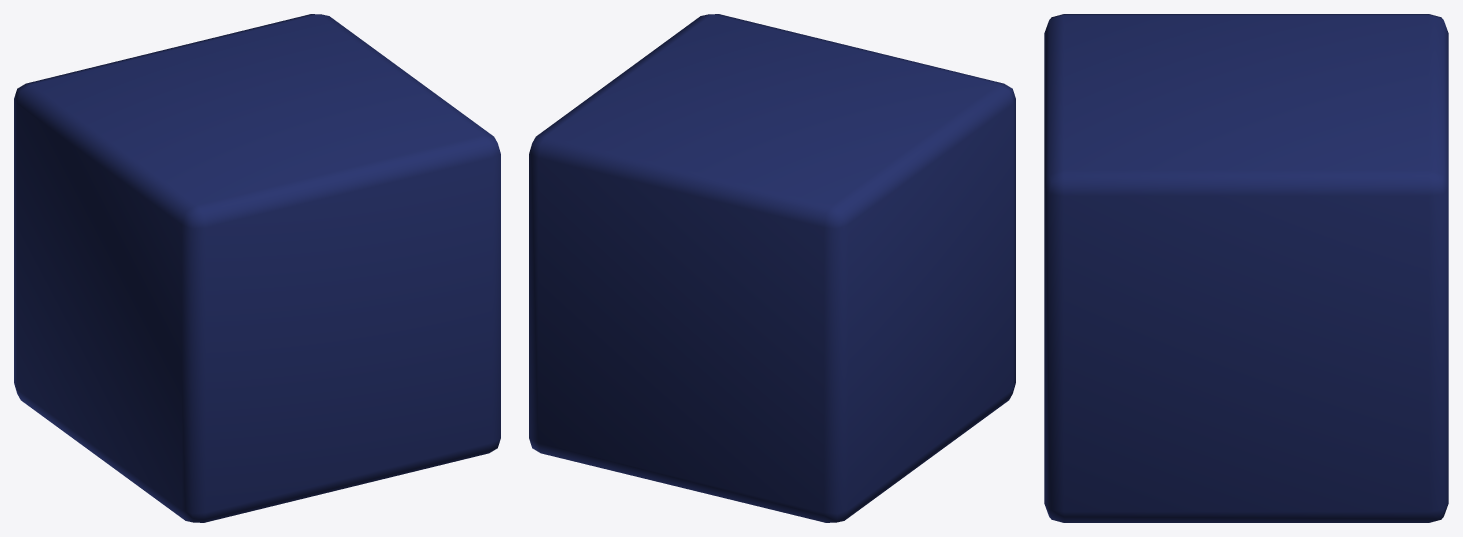
File: pillarbox.fbx
3 views of the same model, side by side, from view 1: azimuth 30°, elevation 25°; view 2: azimuth 150°, elevation 25°; view 3: azimuth 270°, elevation 25° (orthographic). The views are drawn at different scales.
Visible parts, largest first — view 1: pillarbdown_low; view 2: pillarbdown_low; view 3: pillarbdown_low.
Part boxes in pixels (<box>): pillarbdown_low: <box>14,14,500,522</box>; pillarbdown_low: <box>529,14,1015,522</box>; pillarbdown_low: <box>1044,14,1448,522</box>.
Size of the model in its own units: 990 by 990 by 948.
